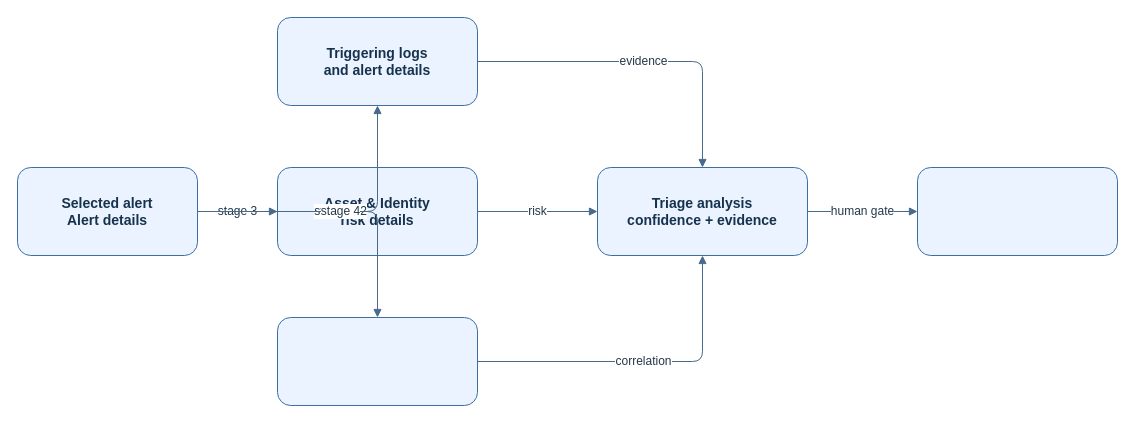
This 1135x423 diagram has some shape labels left out. Here are the shapes that lost their labels. From the top down, the centre of each, then its label:
(1017,211): Analyst decision incident / suppress / block
(377,361): Related alert context
